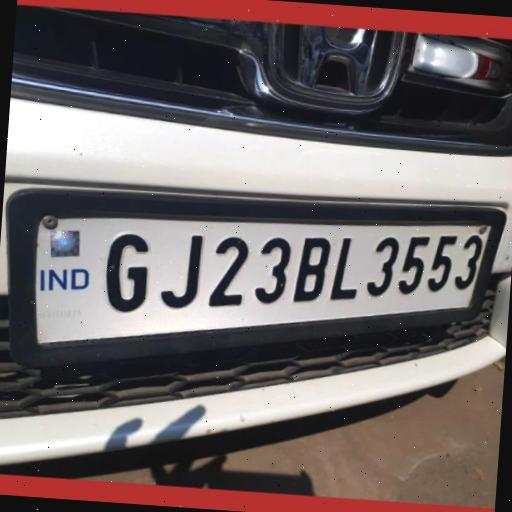number plate: (14, 196, 502, 366)
